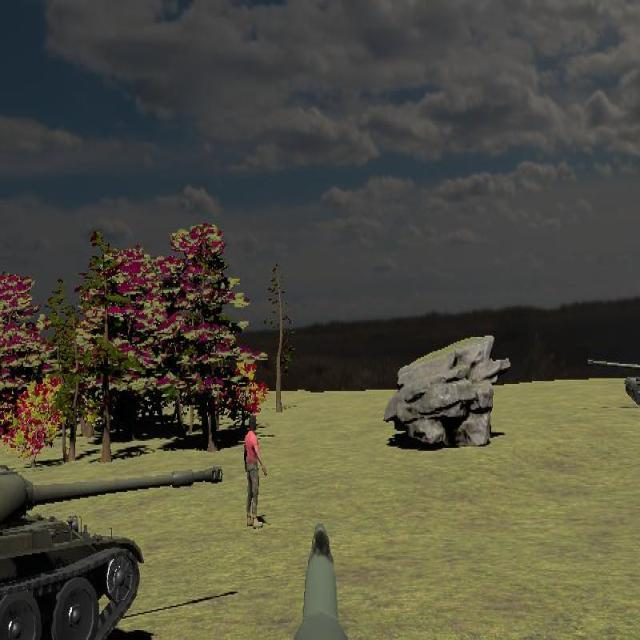Human: (244, 414, 267, 528)
Tank: (1, 460, 225, 639), (587, 354, 640, 414)
